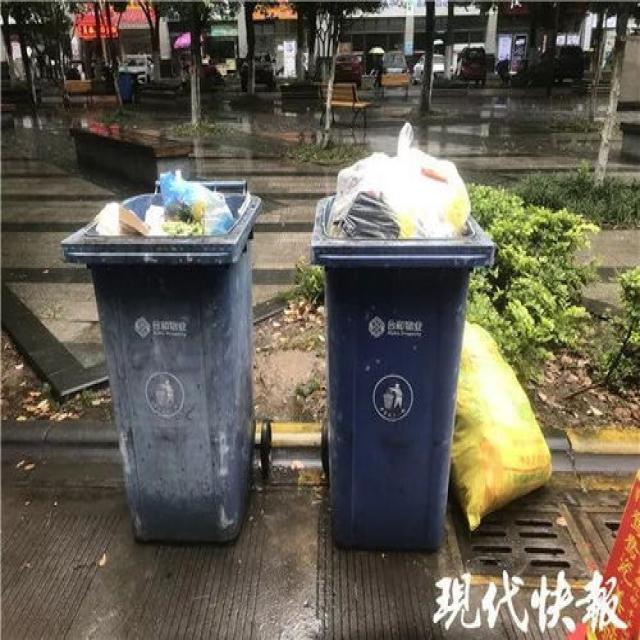garbage: (450, 318, 550, 529)
overflow: (308, 121, 492, 550), (59, 168, 261, 540)
